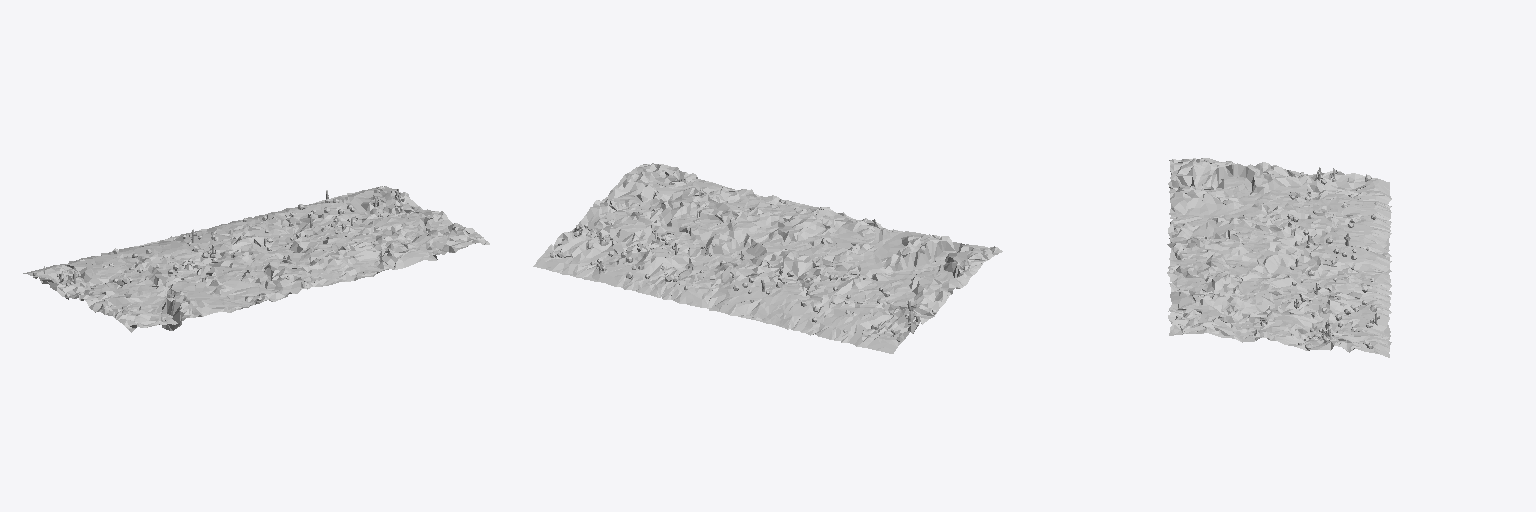
File: desert_ground.obj
3 views of the same model, side by side, from view 1: azimuth 30°, elevation 25°; view 2: azimuth 150°, elevation 25°; view 3: azimuth 270°, elevation 25° (orthographic).
Visible parts, largest first — view 1: desert_ground.001; view 2: desert_ground.001; view 3: desert_ground.001.
Boxes of the visible parts, box(x1,y1,x2,y2) form: desert_ground.001: box(23, 186, 489, 332); desert_ground.001: box(533, 163, 1002, 353); desert_ground.001: box(1167, 158, 1391, 357).
Size of the model in its own units: 200 by 15.31 by 109.